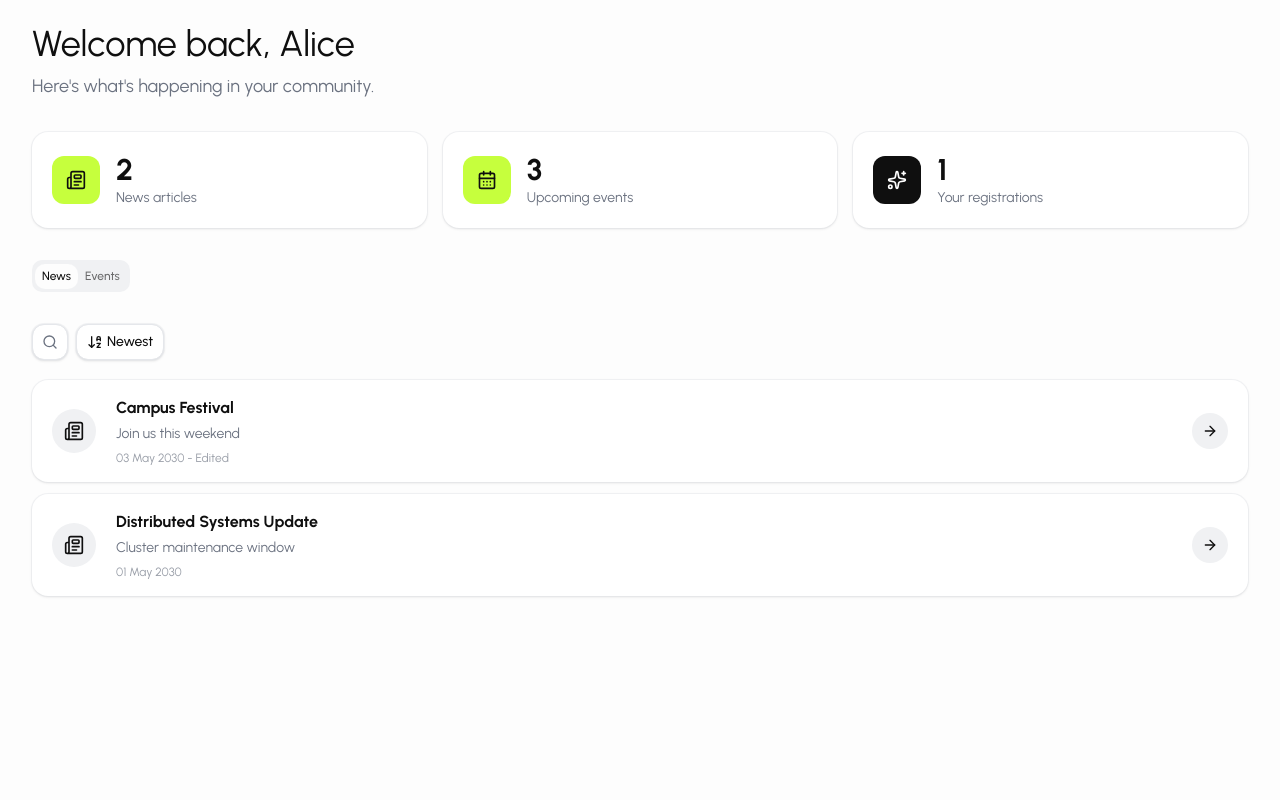
Scenario: student home route › filters the news list by search
Check: the heading "Campus Festival" is shown, box [116,398,234,417]
Click the button named "Open news search" at (50, 342), box [32,324,68,360]
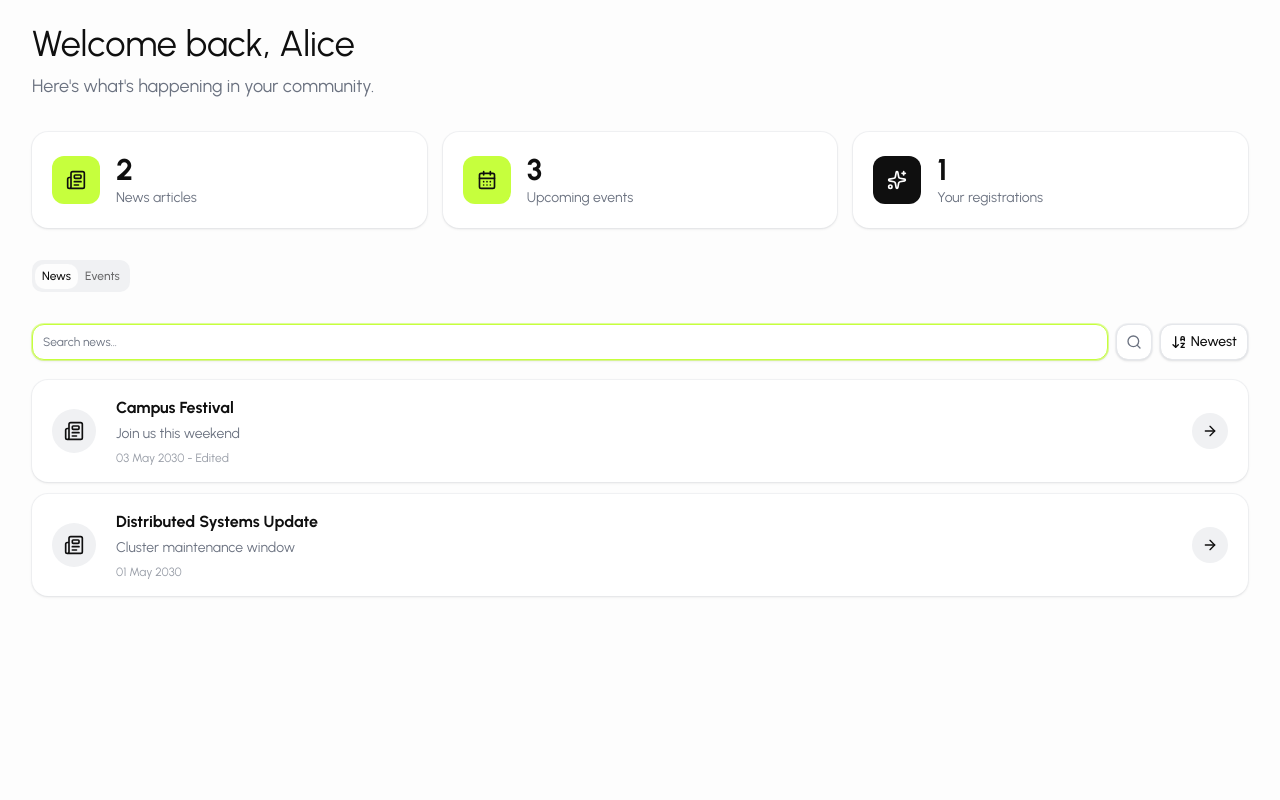
Type "distributed" into the field with placeholder "Search news..." at (570, 342), box [32,324,1108,360]
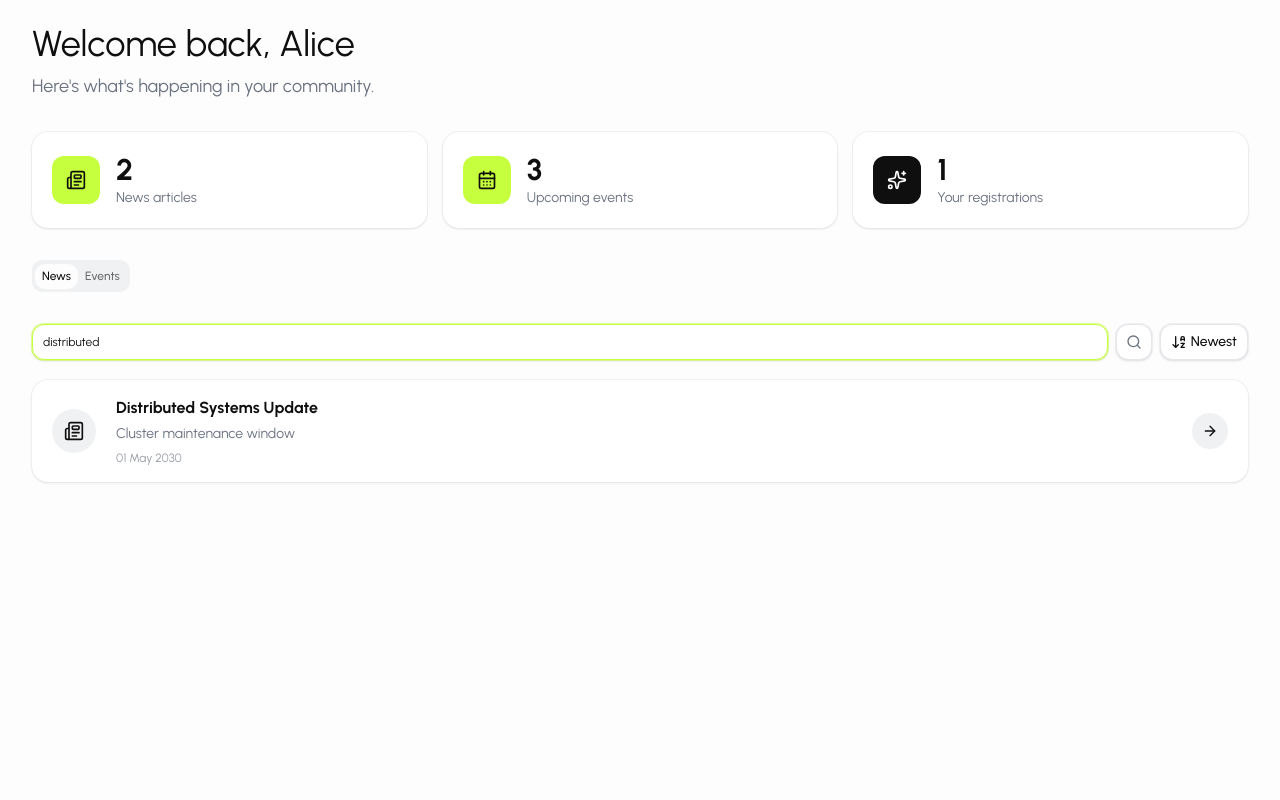
Check: the heading "Distributed Systems Update" is shown, box [116,398,318,417]
Check: the link "Campus Festival" is gone
